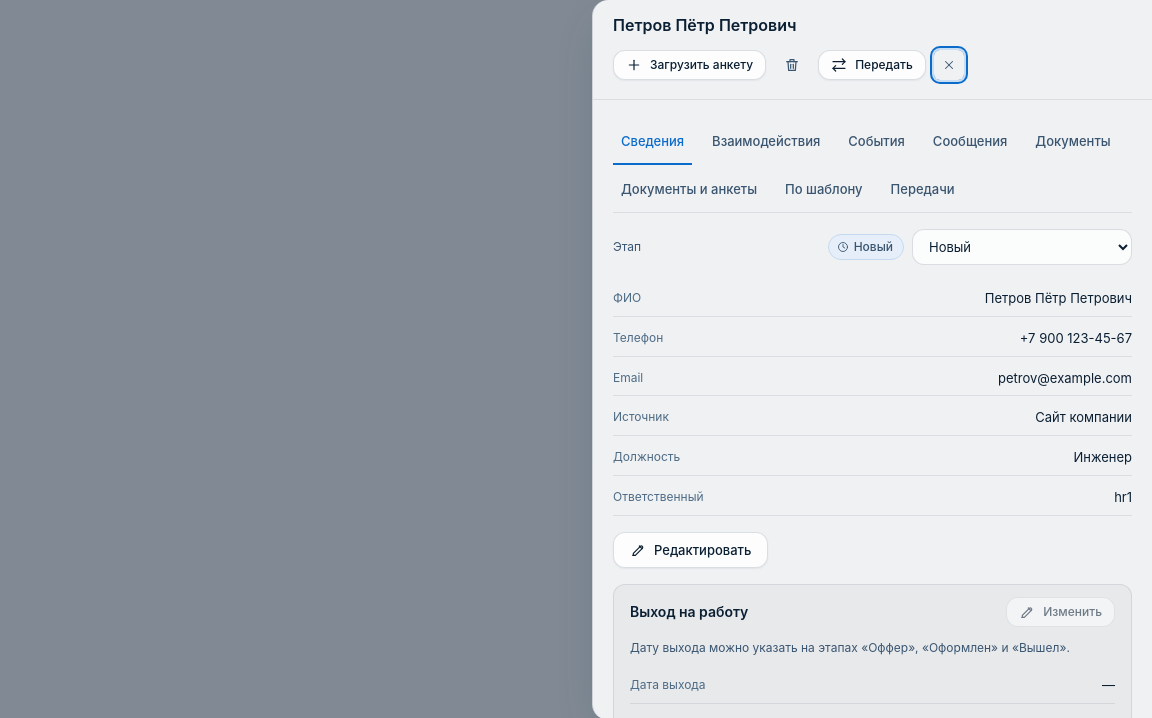
CandidateDrawer › shows the transfer history tab
The image size is (1152, 718).
Click the tab "Передачи" at (923, 190), box x1=883 y1=168 x2=963 y2=213
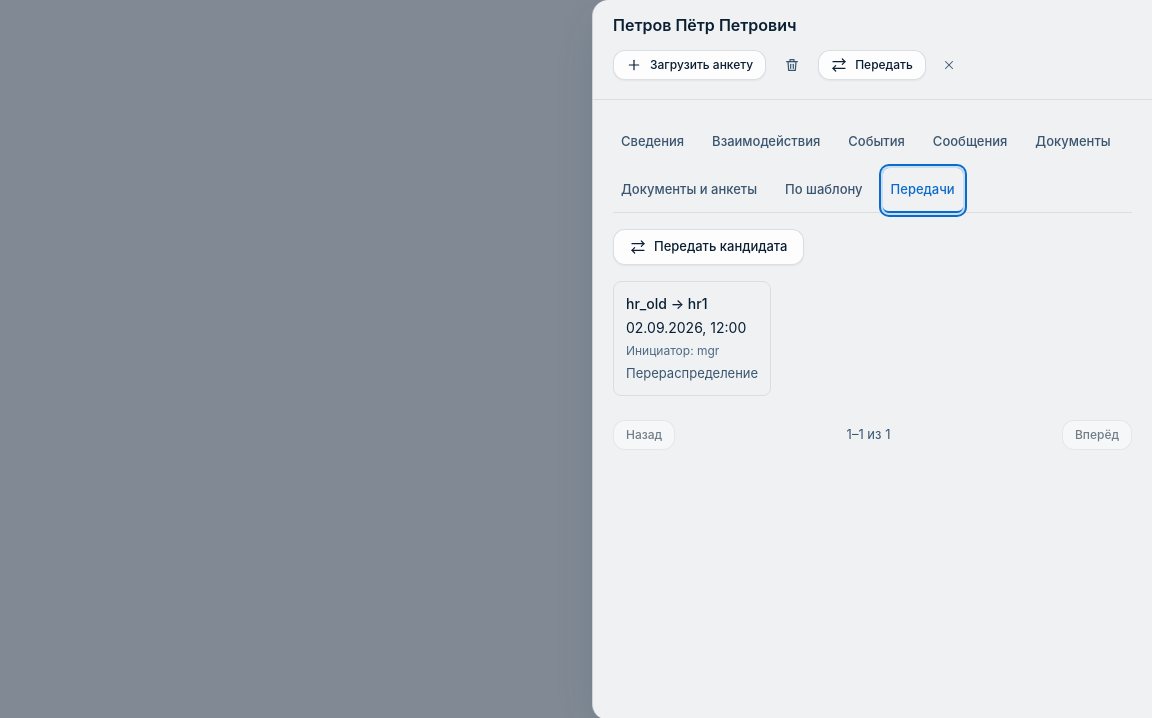
expect the text "hr_old → hr1" is shown: met, box x1=626 y1=295 x2=708 y2=312
expect the text "Перераспределение" is shown: met, box x1=626 y1=364 x2=758 y2=383
